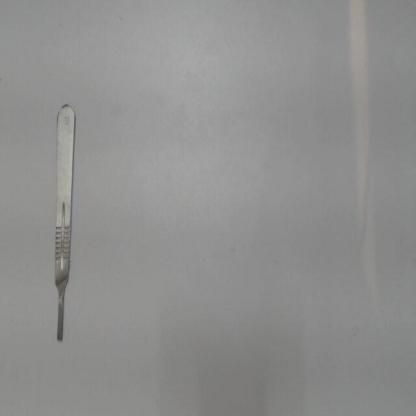No.4 BP Handle: (51, 91, 84, 346)
